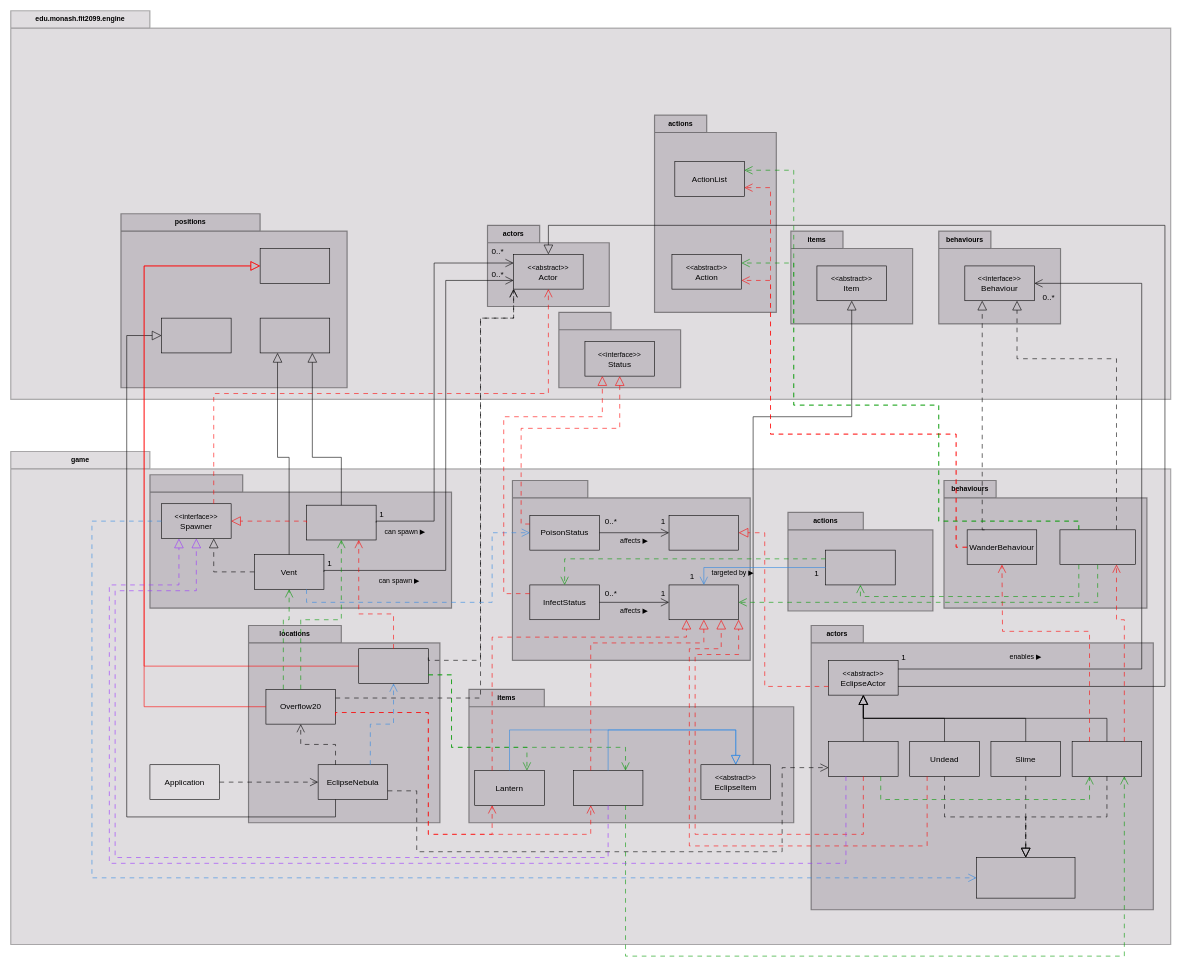
Image size: 1184x974. Some labels were removed from this diagram. Each missing label, with the box of its shape:
<<abstract>> Ground: (260, 318, 330, 353)
<<abstract>> World: (161, 318, 231, 353)
<<interface>> EnvironmentalTriggerer: (976, 857, 1075, 898)
<<interface>> Infectable: (668, 584, 739, 620)
<<interface>> Poisonable: (668, 515, 739, 550)
capabilities: (558, 311, 681, 388)
ContractedWorker: (828, 741, 898, 776)
CookiePack: (573, 770, 643, 805)
Deprecated99: (358, 648, 428, 684)
GameMap: (260, 248, 330, 283)
grounds: (149, 474, 452, 608)
Hole: (306, 505, 376, 540)
InfectAction: (825, 550, 895, 585)
InfectBehaviour: (1059, 529, 1135, 565)
Parasite: (1072, 741, 1142, 776)
statuses: (512, 480, 751, 661)
